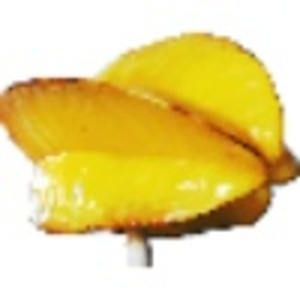carambola: (1, 29, 300, 267)
